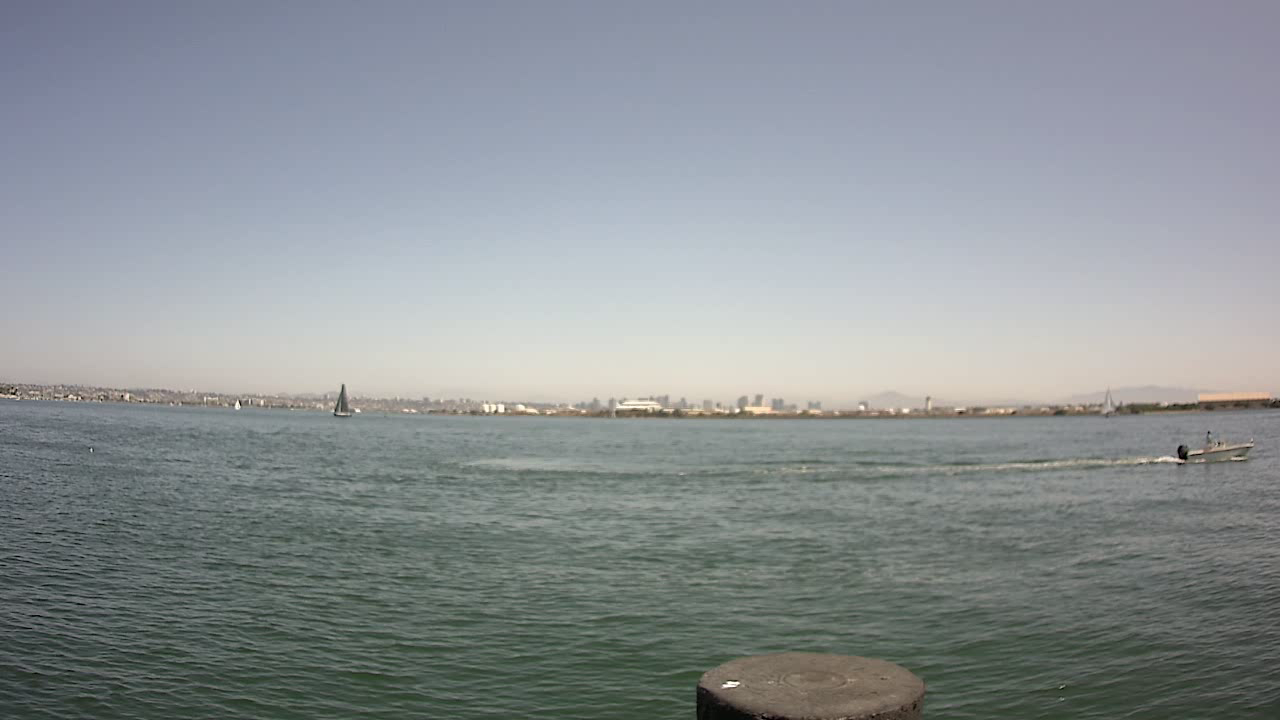target: (1167, 416, 1267, 474)
